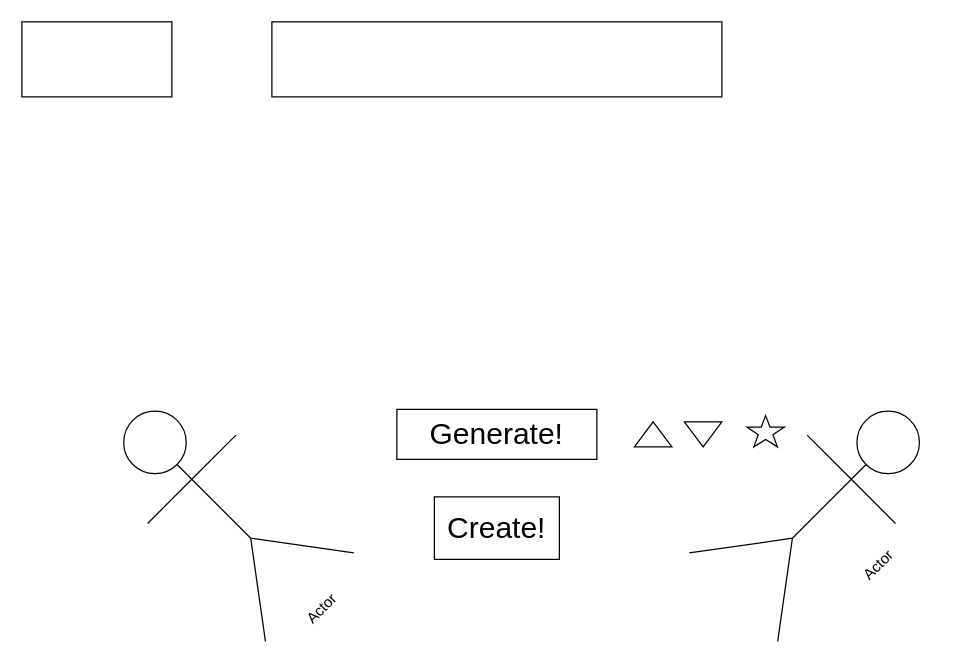
This 978x664 diagram has some shape labels left out. The box of each missing label's shape, as (x1, y1, x2, y2) in pixels:
Dad Jokes!: (271, 21, 722, 97)
Sign In: (21, 21, 172, 97)
